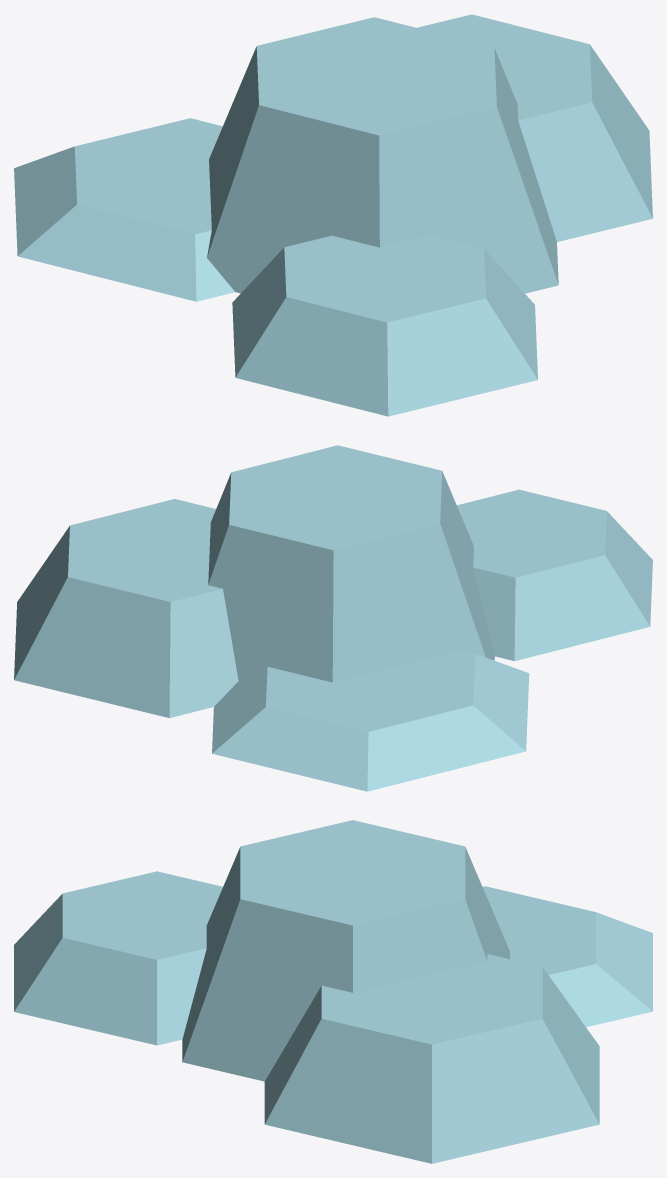
The model's file is d_kenney_rocaille.glb.
3 renders of one model, top to bottom at view 1: azimuth 30°, elevation 25°; view 2: azimuth 150°, elevation 25°; view 3: azimuth 270°, elevation 25°, orthographic. The views are drawn at different scales.
Parts seen in each view (by area): view 1: d_kenney_rocaille; view 2: d_kenney_rocaille; view 3: d_kenney_rocaille.
Boxes of the visible parts, bbox=[...] form: d_kenney_rocaille: bbox=[14, 14, 652, 416]; d_kenney_rocaille: bbox=[14, 445, 652, 791]; d_kenney_rocaille: bbox=[14, 820, 652, 1163].
Bounding box in the file's own units: 0.6 × 0.155 × 0.6.
1 material, 1 textured.
